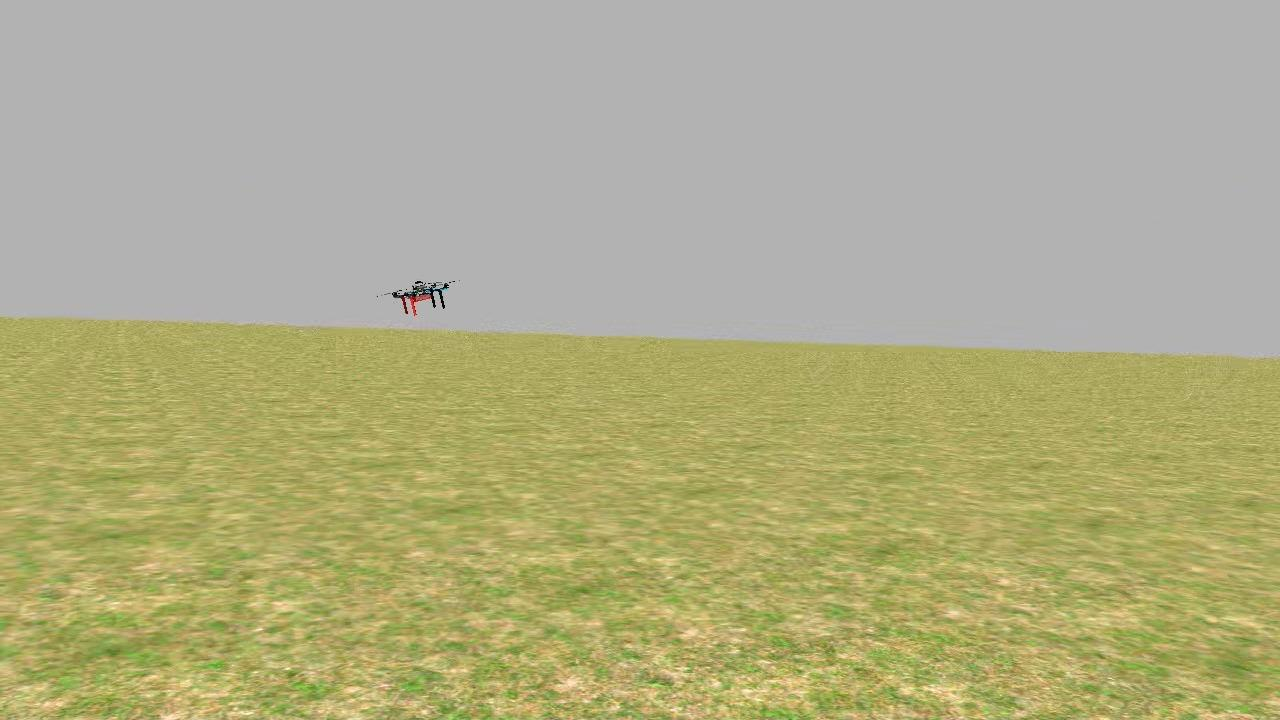UAV: (378, 270, 462, 323)
